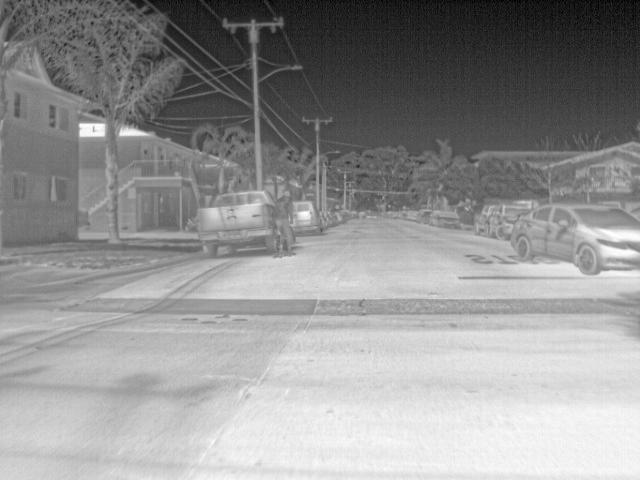car: (510, 202, 640, 274), (196, 189, 279, 255), (488, 202, 539, 239), (293, 200, 324, 235), (474, 204, 498, 237), (429, 210, 463, 229), (417, 207, 430, 226), (321, 211, 335, 228), (333, 209, 346, 224), (407, 208, 419, 222), (341, 209, 353, 220), (351, 209, 359, 219), (393, 210, 401, 219), (359, 209, 366, 219), (388, 209, 395, 219), (400, 210, 408, 218)
person: (276, 189, 295, 254)
